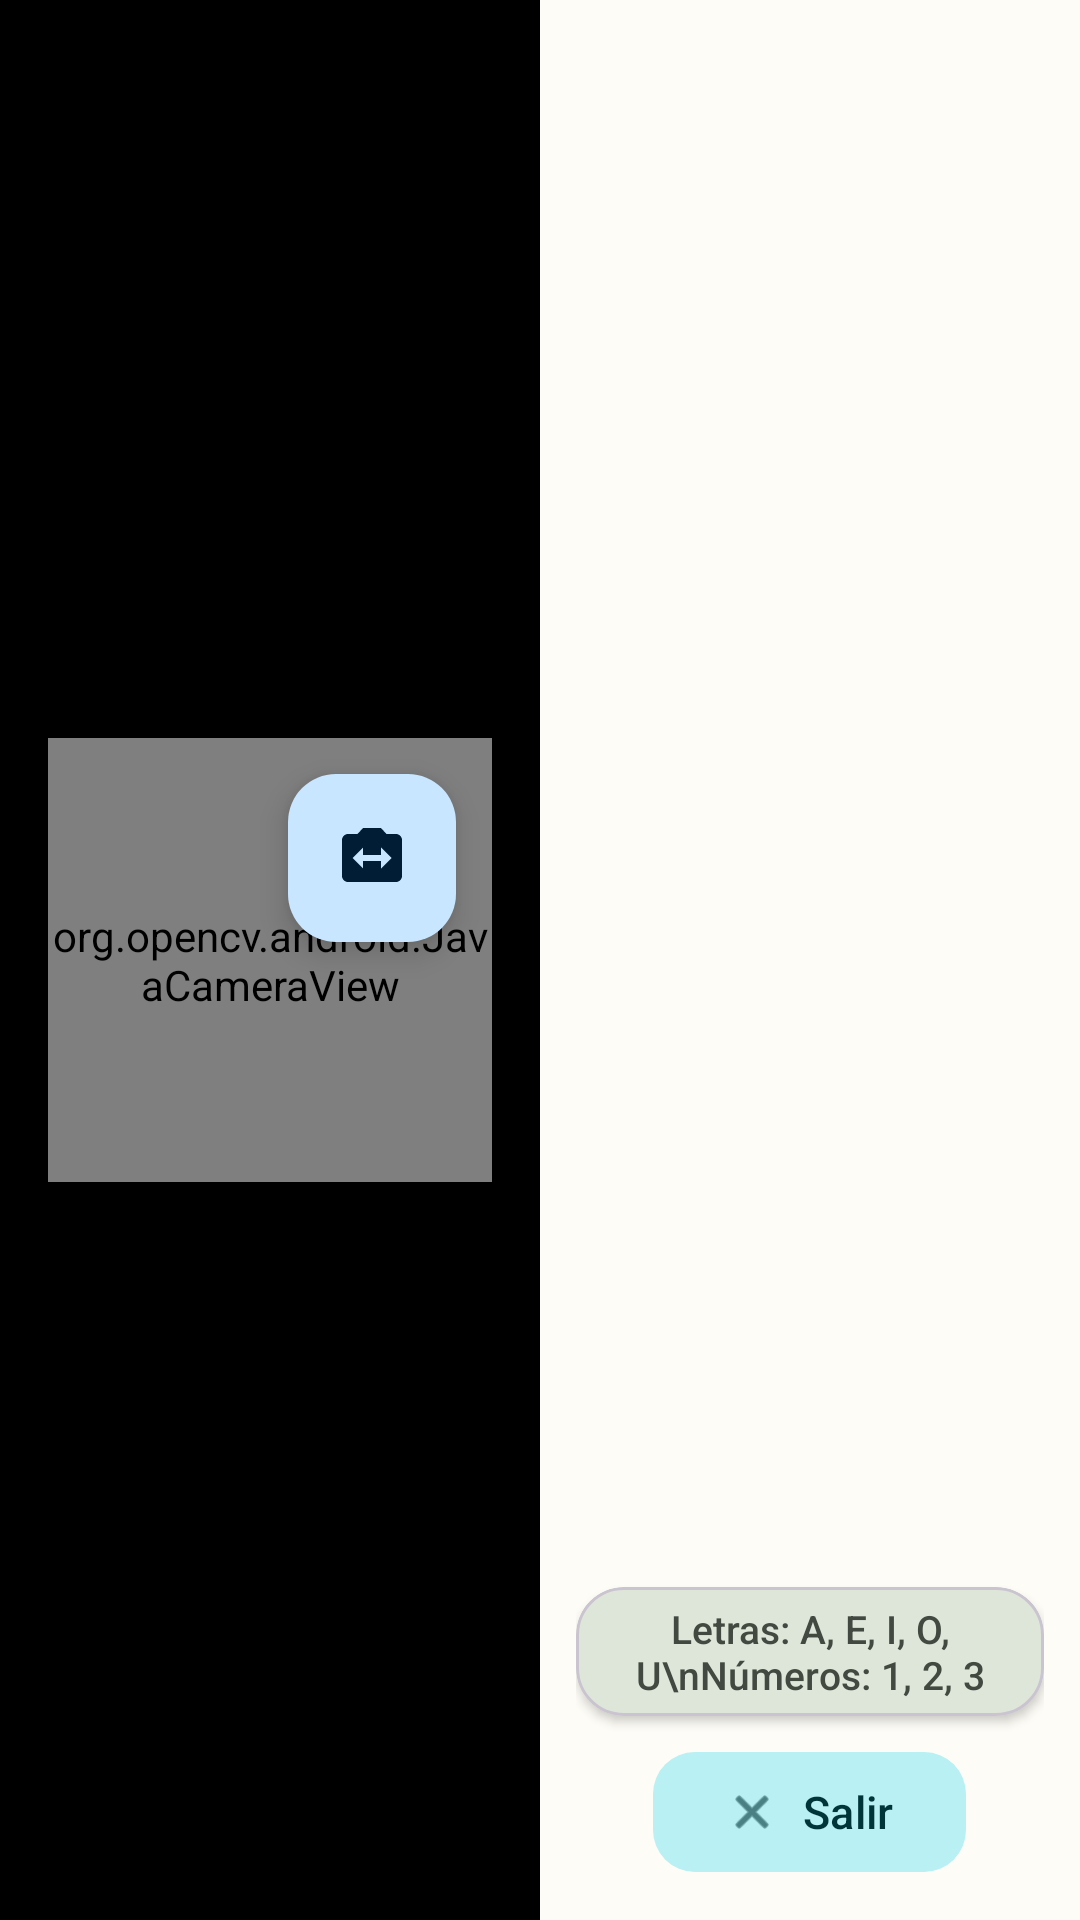

Screen size 1080w x 1920h. Icon name, then its box in pixels as (x1, y1, x2, y2):
Cambiar cámara: (288, 774, 456, 942)
